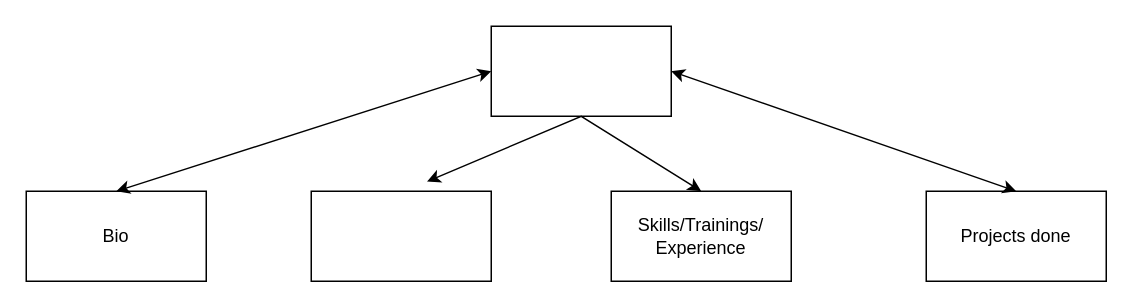
This 1133x308 diagram has some shape labels left out. Here are the shapes that lost their labels. From the top down, the centre of each, then its label:
At (x=580, y=70): "Home Page".
At (x=400, y=235): "Resume".
